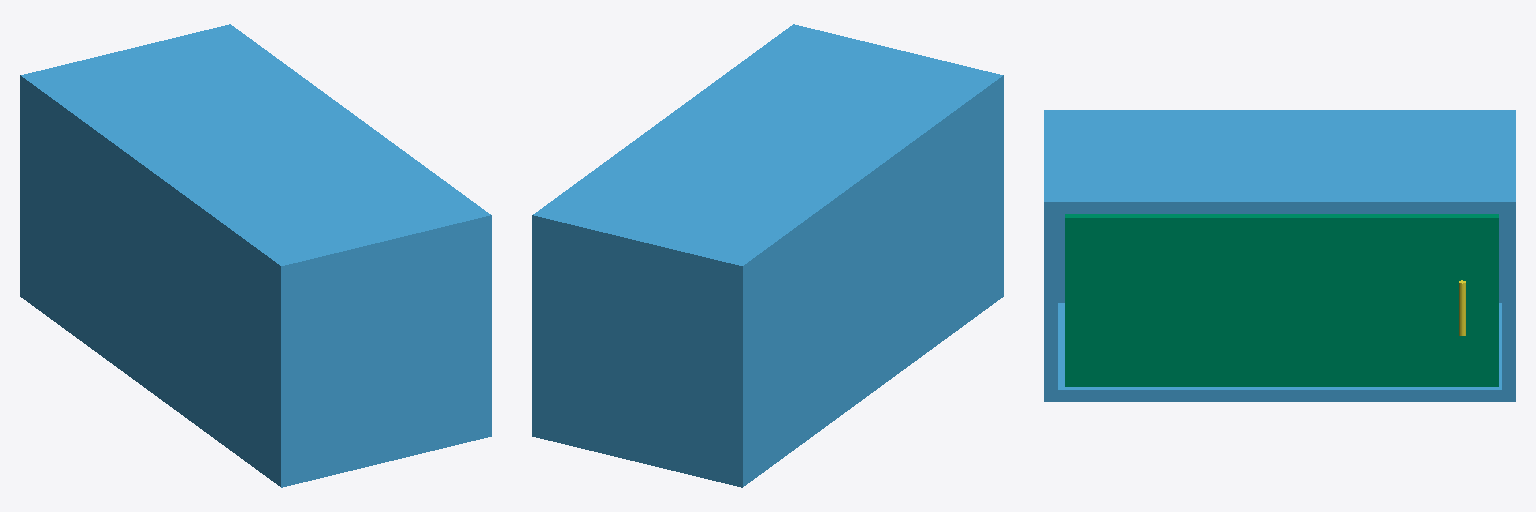
robot.urdf — my_cabinet:
<?xml version="1.0" ?>
<robot name="my_cabinet">
	<link name="world"/>
	<joint name="virtual_joint" type="fixed">
		<parent link="world"/>
		<child link="base_cabinet_link"/>
		<origin xyz="0.0 0.0 0.0" rpy="0.0 0.0 0.0"/>
	</joint>
	<link name="base_cabinet_link">
		<visual>
			<origin xyz="0.0 -0.0025 -0.14208390199530785" rpy="0.0 0.0 0.0"/>
			<geometry>
				<box size="0.3 0.6455603286391927 0.018"/>
			</geometry>
		</visual>
		<collision name="base_cabinet_link_collision_0">
			<origin xyz="0.0 -0.0025 -0.14208390199530785" rpy="0.0 0.0 0.0"/>
			<geometry>
				<box size="0.3 0.6455603286391927 0.018"/>
			</geometry>
		</collision>
		<visual>
			<origin xyz="0.0 0.3112801643195963 0.0" rpy="0.0 0.0 0.0"/>
			<geometry>
				<box size="0.3 0.018 0.3021678039906157"/>
			</geometry>
		</visual>
		<collision name="base_cabinet_link_collision_1">
			<origin xyz="0.0 0.3112801643195963 0.0" rpy="0.0 0.0 0.0"/>
			<geometry>
				<box size="0.3 0.018 0.3021678039906157"/>
			</geometry>
		</collision>
		<visual>
			<origin xyz="0.0 -0.3162801643195963 0.0" rpy="0.0 0.0 0.0"/>
			<geometry>
				<box size="0.3 0.018 0.3021678039906157"/>
			</geometry>
		</visual>
		<collision name="base_cabinet_link_collision_2">
			<origin xyz="0.0 -0.3162801643195963 0.0" rpy="0.0 0.0 0.0"/>
			<geometry>
				<box size="0.3 0.018 0.3021678039906157"/>
			</geometry>
		</collision>
		<visual>
			<origin xyz="0.0 -0.0025 0.14208390199530785" rpy="0.0 0.0 0.0"/>
			<geometry>
				<box size="0.3 0.6455603286391927 0.018"/>
			</geometry>
		</visual>
		<collision name="base_cabinet_link_collision_3">
			<origin xyz="0.0 -0.0025 0.14208390199530785" rpy="0.0 0.0 0.0"/>
			<geometry>
				<box size="0.3 0.6455603286391927 0.018"/>
			</geometry>
		</collision>
		<visual>
			<origin xyz="-0.141 -0.0025 0.0" rpy="0.0 0.0 0.0"/>
			<geometry>
				<box size="0.018 0.6455603286391927 0.3021678039906157"/>
			</geometry>
		</visual>
		<collision name="base_cabinet_link_collision_4">
			<origin xyz="-0.141 -0.0025 0.0" rpy="0.0 0.0 0.0"/>
			<geometry>
				<box size="0.018 0.6455603286391927 0.3021678039906157"/>
			</geometry>
		</collision>
		<inertial>
			<mass value="0.200000"/>
			<inertia ixx="0.008468" ixy="0.0" ixz="0.0" iyy="0.003022" iyz="0.0" izz="0.008446"/>
		</inertial>
	</link>
	<link name="door_link">
		<visual>
			<origin xyz="0.0 -0.2972801643195963 0.0"/>
			<geometry>
				<box size="0.018 0.5945603286391926 0.2561678039906157"/>
			</geometry>
		</visual>
		<collision name="door_link_collision">
			<origin xyz="0.0 -0.2972801643195963 0.0"/>
			<geometry>
				<box size="0.018 0.5945603286391926 0.2561678039906157"/>
			</geometry>
		</collision>
		<inertial>
			<mass value="0.200000"/>
			<inertia ixx="0.006985" ixy="0.0" ixz="0.0" iyy="0.001099" iyz="0.0" izz="0.005897"/>
		</inertial>
	</link>
	<joint name="door_joint" type="revolute">
		<origin xyz="0.141 -0.2972801643195963 0.0" rpy="0.000000 -0.000000 3.141593"/>
		<axis xyz="0 0 1"/>
		<parent link="base_cabinet_link"/>
		<child link="door_link"/>
		<limit effort="50" lower="-1.658062789394613" upper="0" velocity="10"/>
		<dynamics friction="3.5" damping="3.5"/>
	</joint>
	<link name="handle_link">
		<visual>
			<origin xyz="0.0 0.0 0.0" rpy="0.0 0.0 0.0"/>
			<geometry>
				<cylinder length="0.08" radius="0.005"/>
			</geometry>
		</visual>
		<collision name="handle_link_collision_0">
			<origin xyz="0.0 0.0 0.0" rpy="0.0 0.0 0.0"/>
			<geometry>
				<cylinder length="0.08" radius="0.005"/>
			</geometry>
		</collision>
		<visual>
			<origin xyz="-0.01 0.0 0.02" rpy="0.0 1.5707963267948966 0.0"/>
			<geometry>
				<cylinder length="0.02" radius="0.003"/>
			</geometry>
		</visual>
		<collision name="handle_link_collision_1">
			<origin xyz="-0.01 0.0 0.02" rpy="0.0 1.5707963267948966 0.0"/>
			<geometry>
				<cylinder length="0.01" radius="0.003"/>
			</geometry>
		</collision>
		<visual>
			<origin xyz="-0.01 0.0 -0.02" rpy="0.0 1.5707963267948966 0.0"/>
			<geometry>
				<cylinder length="0.02" radius="0.003"/>
			</geometry>
		</visual>
		<collision name="handle_link_collision_2">
			<origin xyz="-0.01 0.0 -0.02" rpy="0.0 1.5707963267948966 0.0"/>
			<geometry>
				<cylinder length="0.02" radius="0.003"/>
			</geometry>
		</collision>
		<inertial>
			<mass value="0.050000"/>
			<inertia ixx="0.000027" ixy="0.0" ixz="0.0" iyy="0.000029" iyz="0.0" izz="0.000003"/>
		</inertial>
	</link>
	<joint name="handle_joint" type="fixed">
		<origin xyz="-0.028999999999999998 -0.5445603286391926 0.0" rpy="0.000000 -0.000000 3.141593"/>
		<parent link="door_link"/>
		<child link="handle_link"/>
	</joint>
	<gazebo reference="base_cabinet_link">
		<sensor name="main_sensor" type="contact">
			<selfCollide>true</selfCollide>
			<alwaysOn>true</alwaysOn>
			<updateRate>5.0</updateRate>
			<material>Gazebo/Red</material>
			<contact>
				<collision>base_cabinet_link_collision_0_collision</collision>
				<collision>base_cabinet_link_collision_1_collision</collision>
				<collision>base_cabinet_link_collision_2_collision</collision>
				<collision>base_cabinet_link_collision_3_collision</collision>
				<collision>base_cabinet_link_collision_4_collision</collision>
			</contact>
			<plugin name="gazebo_ros_bumper_controller" filename="libgazebo_ros_bumper.so">
				<bumperTopicName>/contact</bumperTopicName>
				<frameName>world</frameName>
			</plugin>
		</sensor>
	</gazebo>
	<gazebo reference="door_link">
		<sensor name="main_sensor" type="contact">
			<selfCollide>true</selfCollide>
			<alwaysOn>true</alwaysOn>
			<updateRate>5.0</updateRate>
			<material>Gazebo/Red</material>
			<contact>
				<collision>door_link_collision_collision</collision>
			</contact>
			<plugin name="gazebo_ros_bumper_controller" filename="libgazebo_ros_bumper.so">
				<bumperTopicName>/contact_door</bumperTopicName>
				<frameName>contact_door</frameName>
			</plugin>
		</sensor>
	</gazebo>
	<gazebo reference="door_link">
		<mu>3.0</mu>
		<mu2>3.0</mu2>
		<kp>10000000</kp>
		<kd>100</kd>
	</gazebo>
</robot>

--- Render facts (derived) ---
3 views of the same robot in one strip: view 1: azimuth 30°, elevation 25°; view 2: azimuth 150°, elevation 25°; view 3: azimuth 270°, elevation 25° (orthographic).
Model my_cabinet with 4 links and 3 joints (1 revolute, 2 fixed), rooted at world, posed all joints at 0.
Links seen in each view (by area): view 1: base_cabinet_link; view 2: base_cabinet_link; view 3: door_link, base_cabinet_link.
Boxes of the visible links, left/top/right/bottom form: base_cabinet_link: left=20, top=24, right=491, bottom=487; base_cabinet_link: left=532, top=24, right=1003, bottom=487; door_link: left=1065, top=214, right=1498, bottom=386; base_cabinet_link: left=1044, top=110, right=1515, bottom=401.
Bounding box of the posed robot: 0.325 × 0.6456 × 0.3022 m (x, y, z).
Geometry: primitives only (box / cylinder / sphere), no mesh files.
